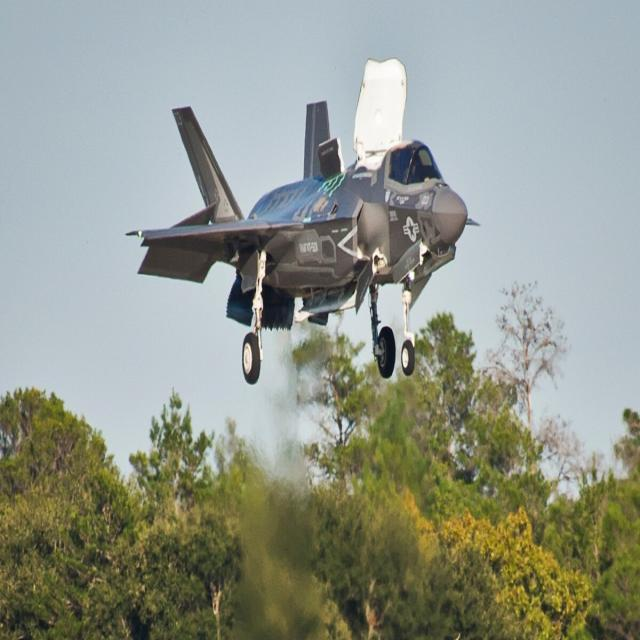MIL_Plane: (125, 58, 481, 385)
